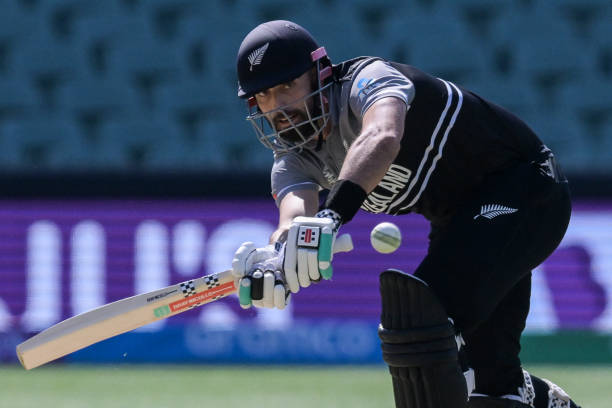bottom left: (11, 335, 33, 355)
bottom right: (15, 361, 41, 379)
top left: (216, 263, 239, 282)
top right: (228, 287, 247, 299)
